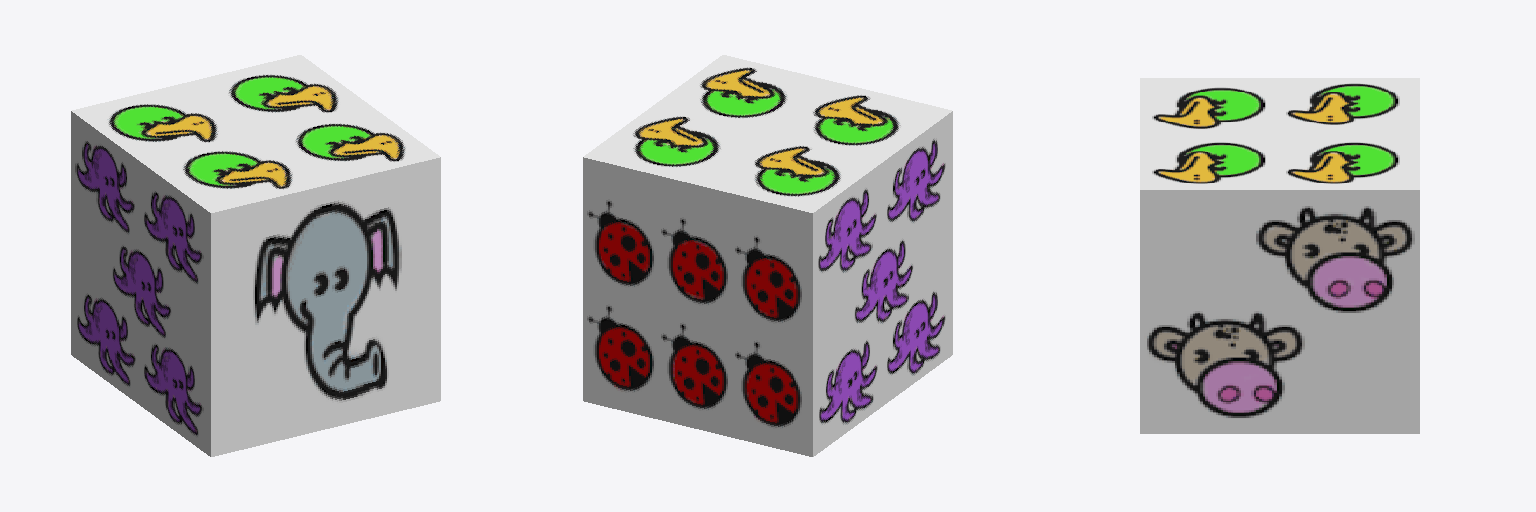
The picture shows the model from 3 angles: view 1: azimuth 30°, elevation 25°; view 2: azimuth 150°, elevation 25°; view 3: azimuth 270°, elevation 25°; orthographic projection.
Parts seen in each view (by area): view 1: Box001; view 2: Box001; view 3: Box001.
Part boxes in pixels (bbox=[...]): Box001: bbox=[71, 55, 440, 456]; Box001: bbox=[583, 55, 952, 456]; Box001: bbox=[1140, 78, 1419, 433].
Bounding box in the file's own units: 19.56 × 19.81 × 20.63.
Materials: 1 (1 with a texture image).